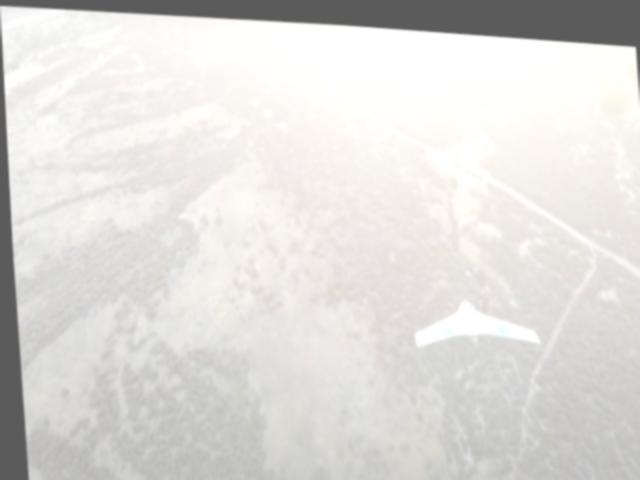iha: (403, 282, 537, 347)
